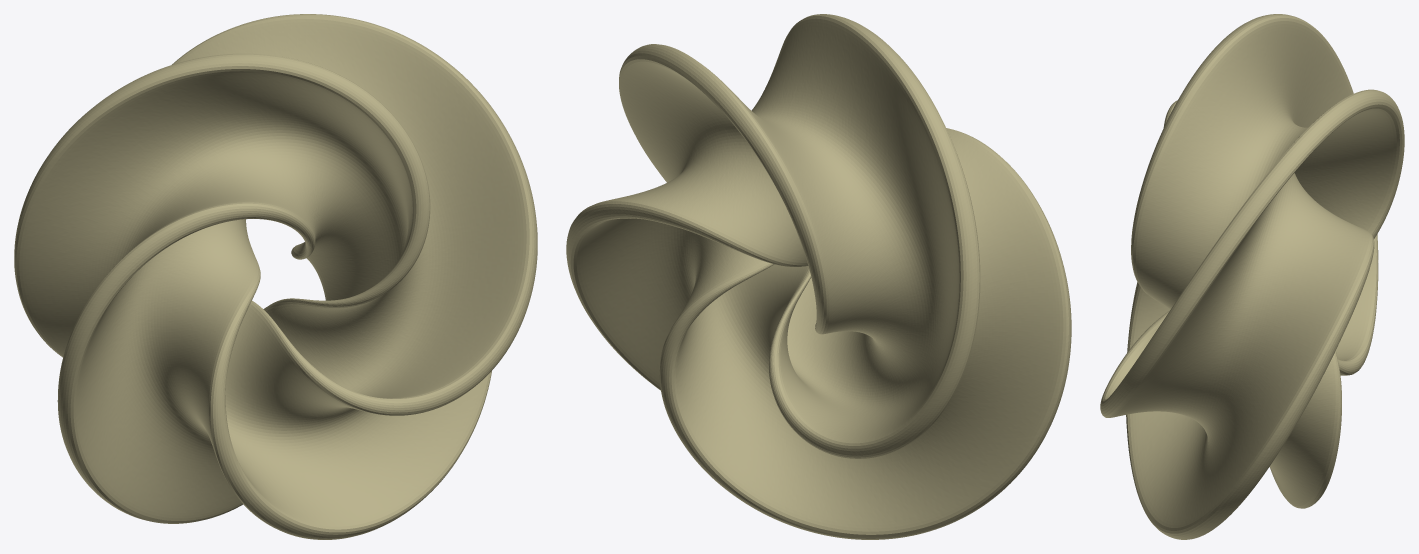
3 renders of one model, left to right at view 1: azimuth 30°, elevation 25°; view 2: azimuth 150°, elevation 25°; view 3: azimuth 270°, elevation 25°, orthographic. The views are drawn at different scales.
Parts seen in each view (by area): view 1: Shape_71; view 2: Shape_71; view 3: Shape_71.
Part boxes in pixels (box(x1,y1,x2,y2)): Shape_71: box(14, 14, 537, 539); Shape_71: box(566, 14, 1071, 539); Shape_71: box(1100, 14, 1404, 539).
Bounding box in the file's own units: 2.87 × 2.88 × 1.72.
